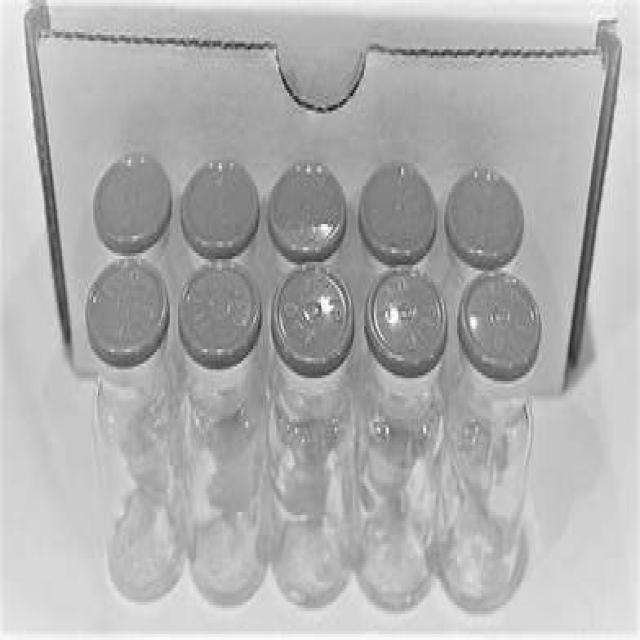vial: (452, 268, 546, 369), (269, 257, 351, 371), (262, 150, 350, 252), (88, 269, 184, 359), (89, 153, 172, 255), (356, 162, 446, 256), (174, 268, 268, 356), (360, 268, 446, 364), (445, 170, 529, 258), (182, 162, 256, 260)
